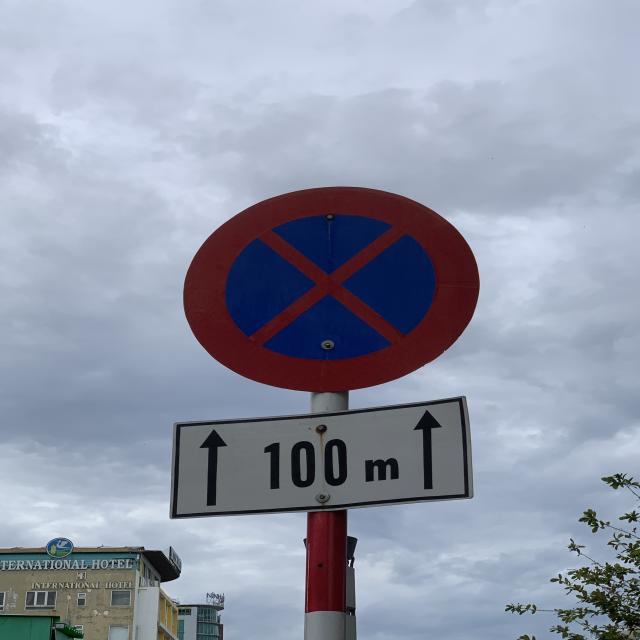Cam_Dung_Va_Dau_Xe: (176, 185, 482, 392)
